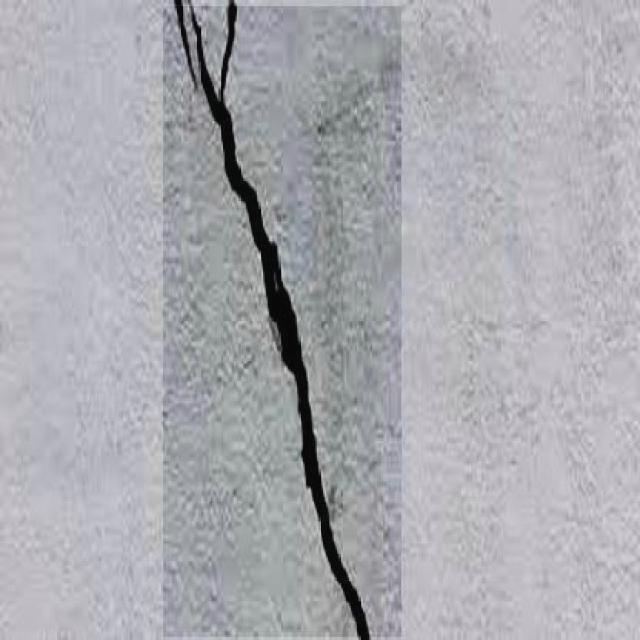crack: (166, 0, 408, 640)
